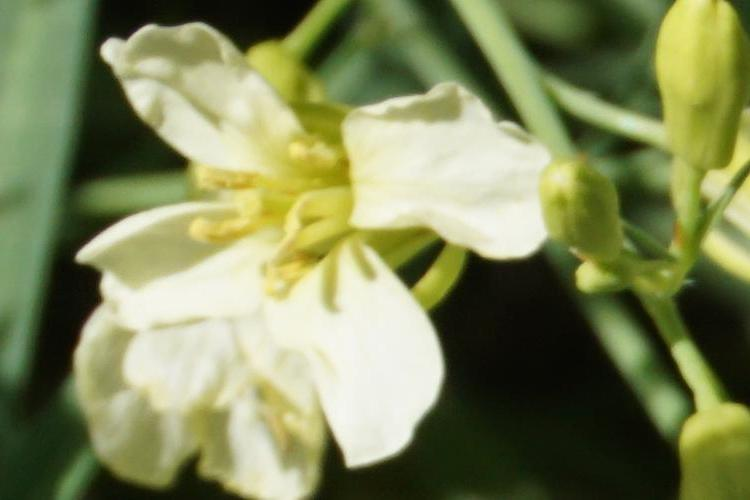bud: (647, 4, 746, 178), (547, 155, 630, 269)
white: (69, 29, 515, 494)
